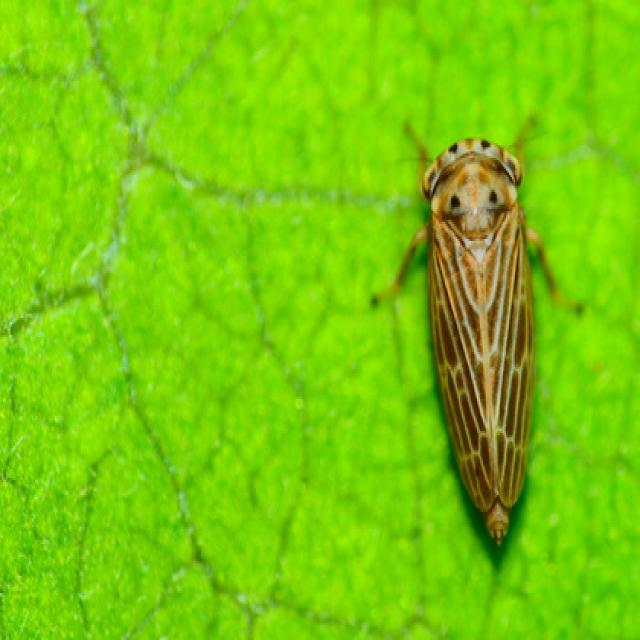Yechan: (414, 112, 544, 550)
